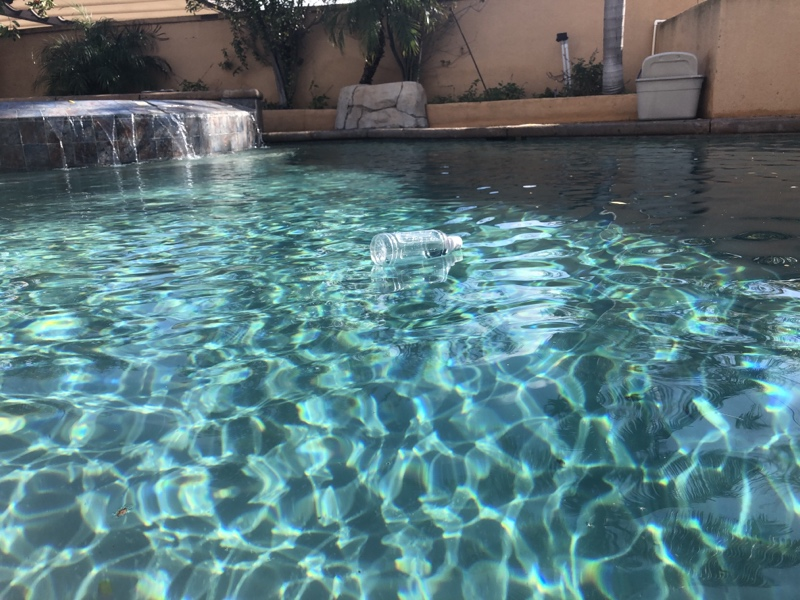Plastic Bottle: (364, 225, 465, 268)
